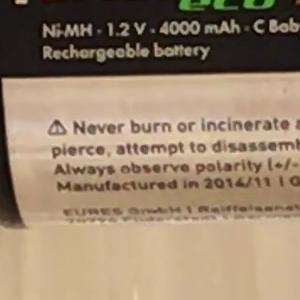keyword: (34, 15, 89, 47)
